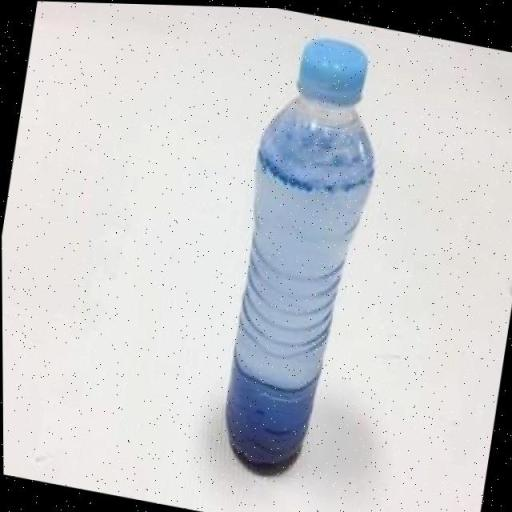plastic: (201, 20, 400, 489)
